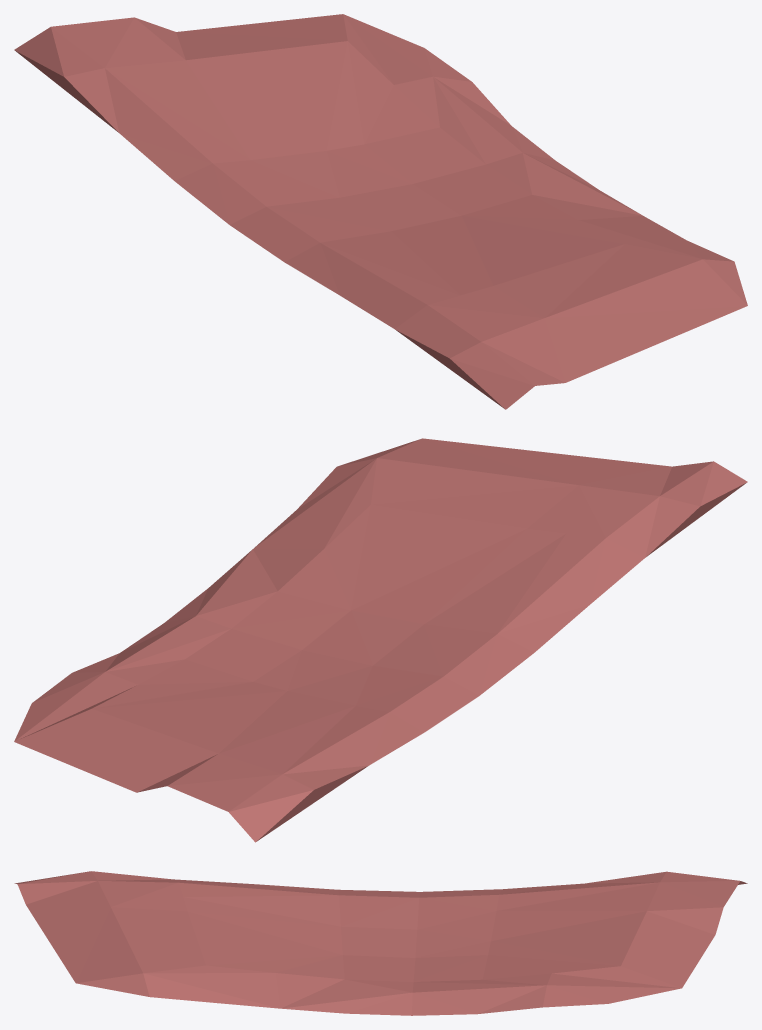
Rendered from Tent_2.fbx.
3 renders of one model, top to bottom at view 1: azimuth 30°, elevation 25°; view 2: azimuth 150°, elevation 25°; view 3: azimuth 270°, elevation 25°, orthographic. The views are drawn at different scales.
Visible parts, largest first — view 1: Tent2; view 2: Tent2; view 3: Tent2.
Part boxes in pixels (x1,y1,x2,y2): Tent2: (14, 14, 747, 409); Tent2: (14, 438, 747, 842); Tent2: (14, 871, 747, 1015).
Size of the model in its own units: 225 by 34.41 by 589.
